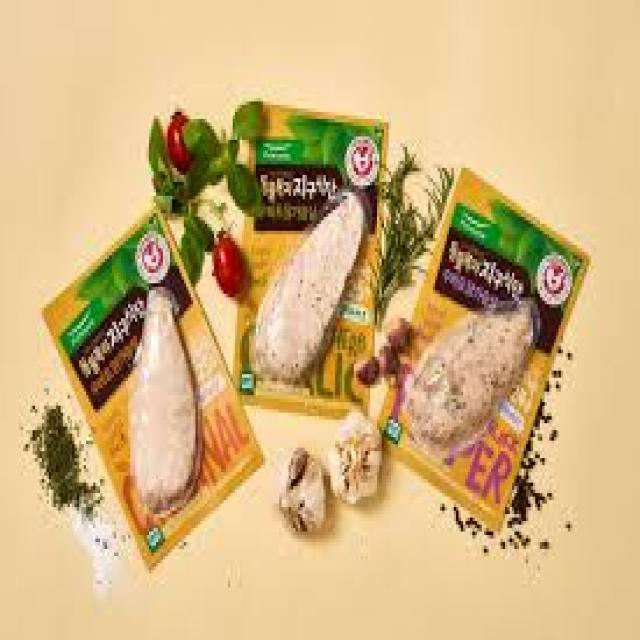chicken: (401, 291, 543, 465), (250, 193, 371, 389), (128, 287, 213, 525)
